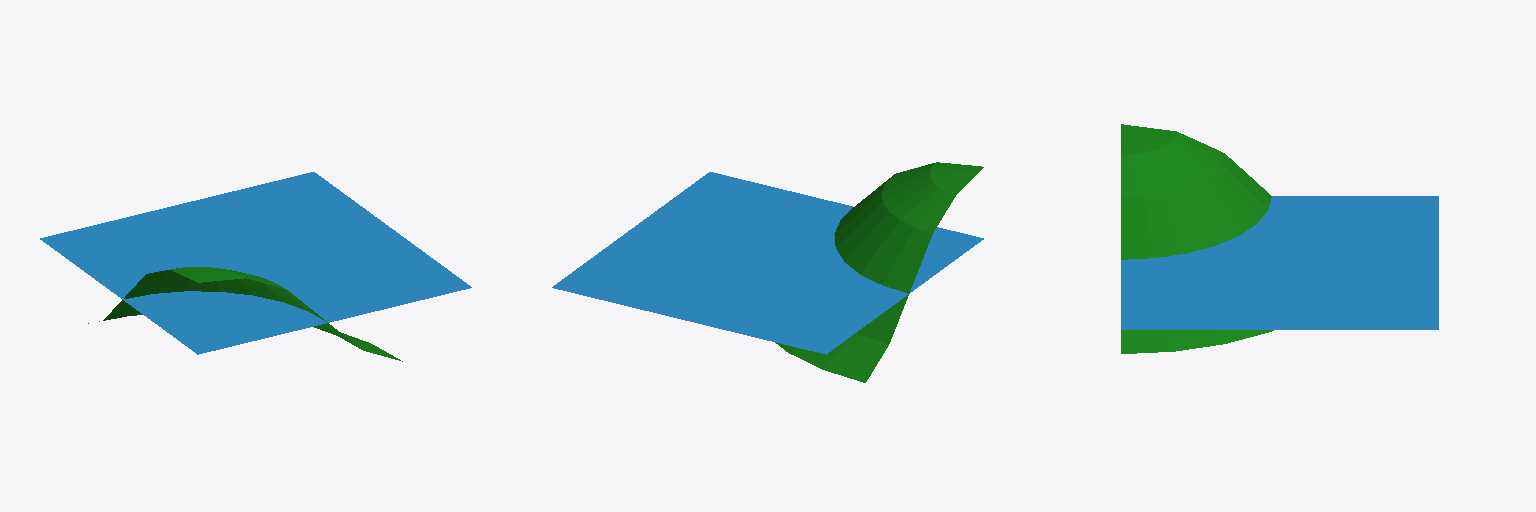
File: Terrain_Water_Corner_Outer_1x1.obj
3 views of the same model, side by side, from view 1: azimuth 30°, elevation 25°; view 2: azimuth 150°, elevation 25°; view 3: azimuth 270°, elevation 25° (orthographic).
Parts seen in each view (by area): view 1: object1, object2; view 2: object1, object2; view 3: object1, object2.
Boxes of the visible parts, box(x1,y1,x2,y2) form: object1: box(40, 172, 471, 354); object2: box(88, 267, 402, 361); object1: box(552, 172, 983, 354); object2: box(775, 162, 983, 382); object1: box(1121, 196, 1438, 329); object2: box(1121, 124, 1273, 353).
Size of the model in its own units: 2 by 0.9 by 2.